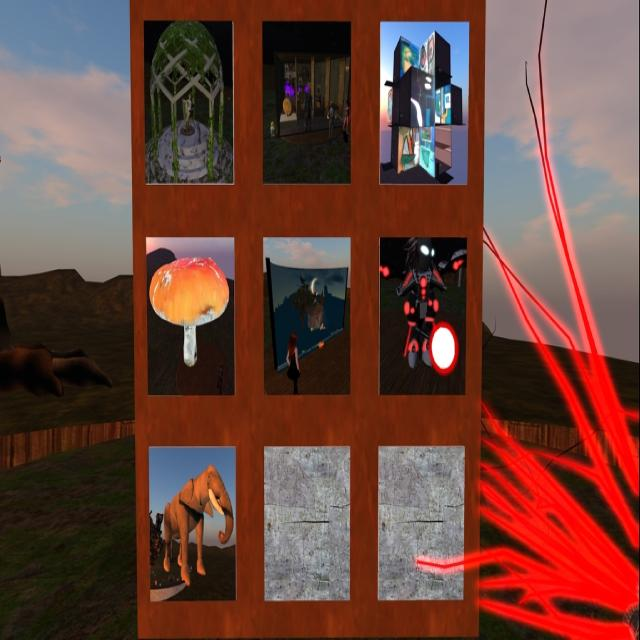Elephant: (156, 472, 236, 585)
